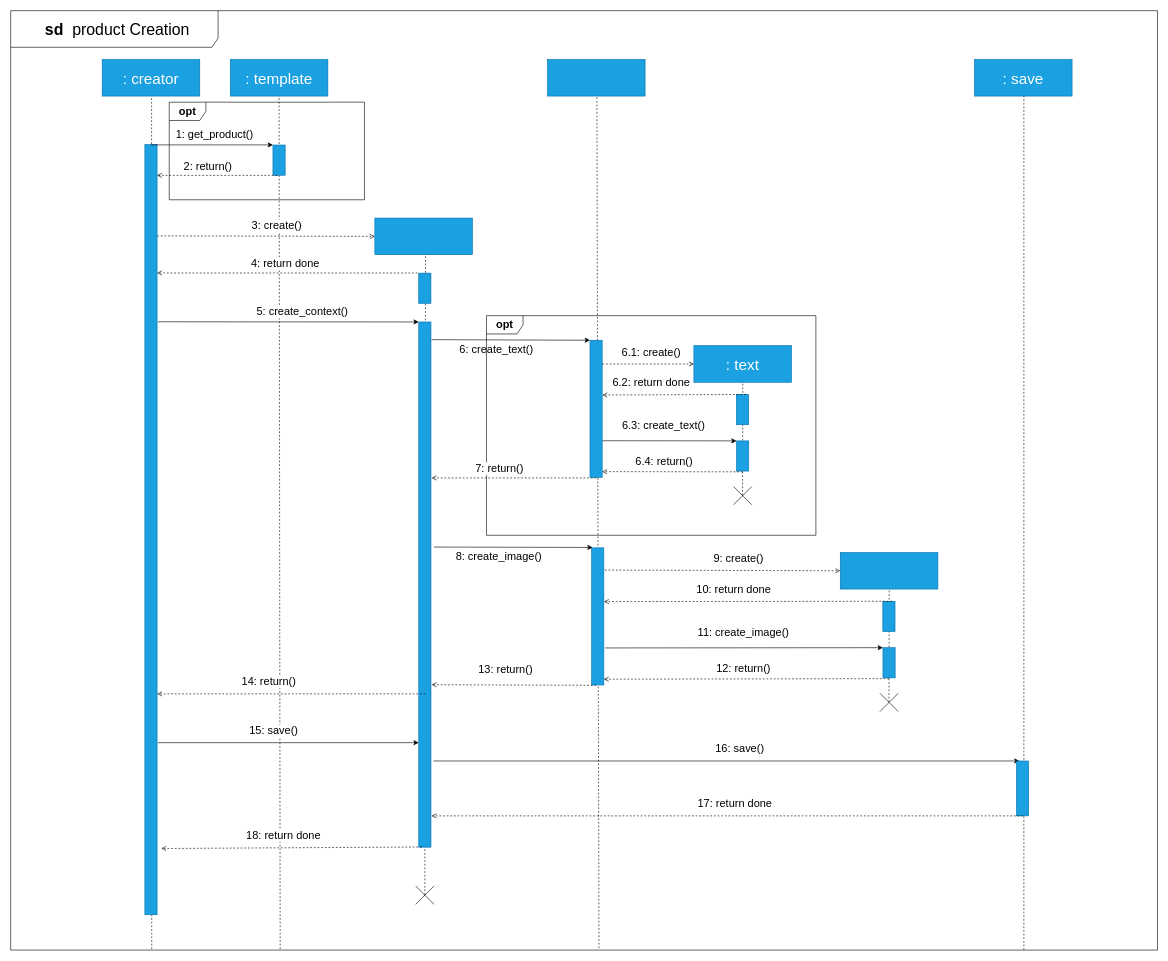
This 1168x961 diagram has some shape labels left out. The shapes that lost their labels are listed below. From the top down, each one's centre as x and y in pixels, then its label:
At (596,77): ": LLM_service".
At (423,236): ": product".
At (889,570): ": image".
